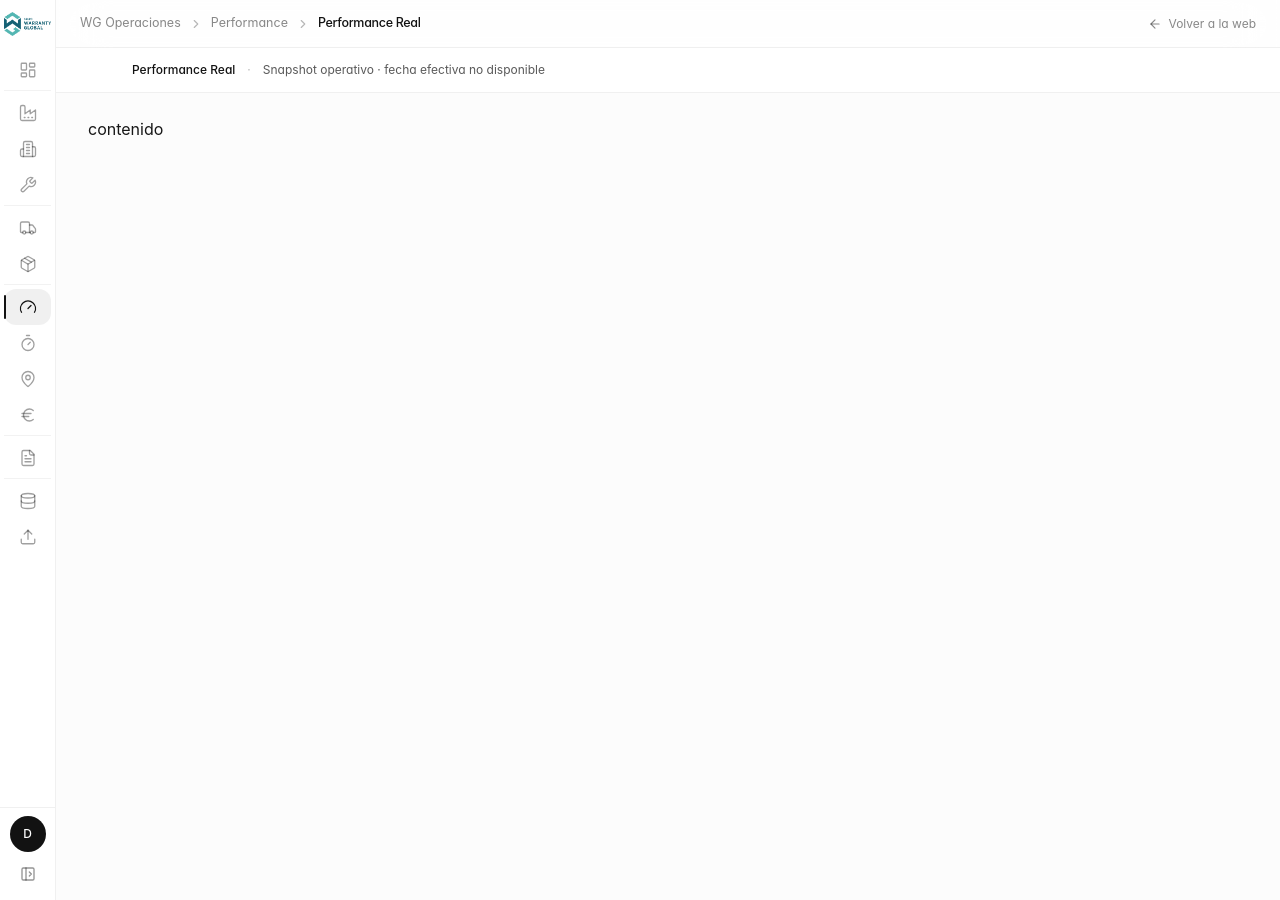
it: UX-SHELL-LEFTNAV-1 · rail colapsado › persiste la preferencia expandido/colapsado
Click the button named "Expandir navegación": point(28, 874) left=10, top=856, right=46, bottom=892
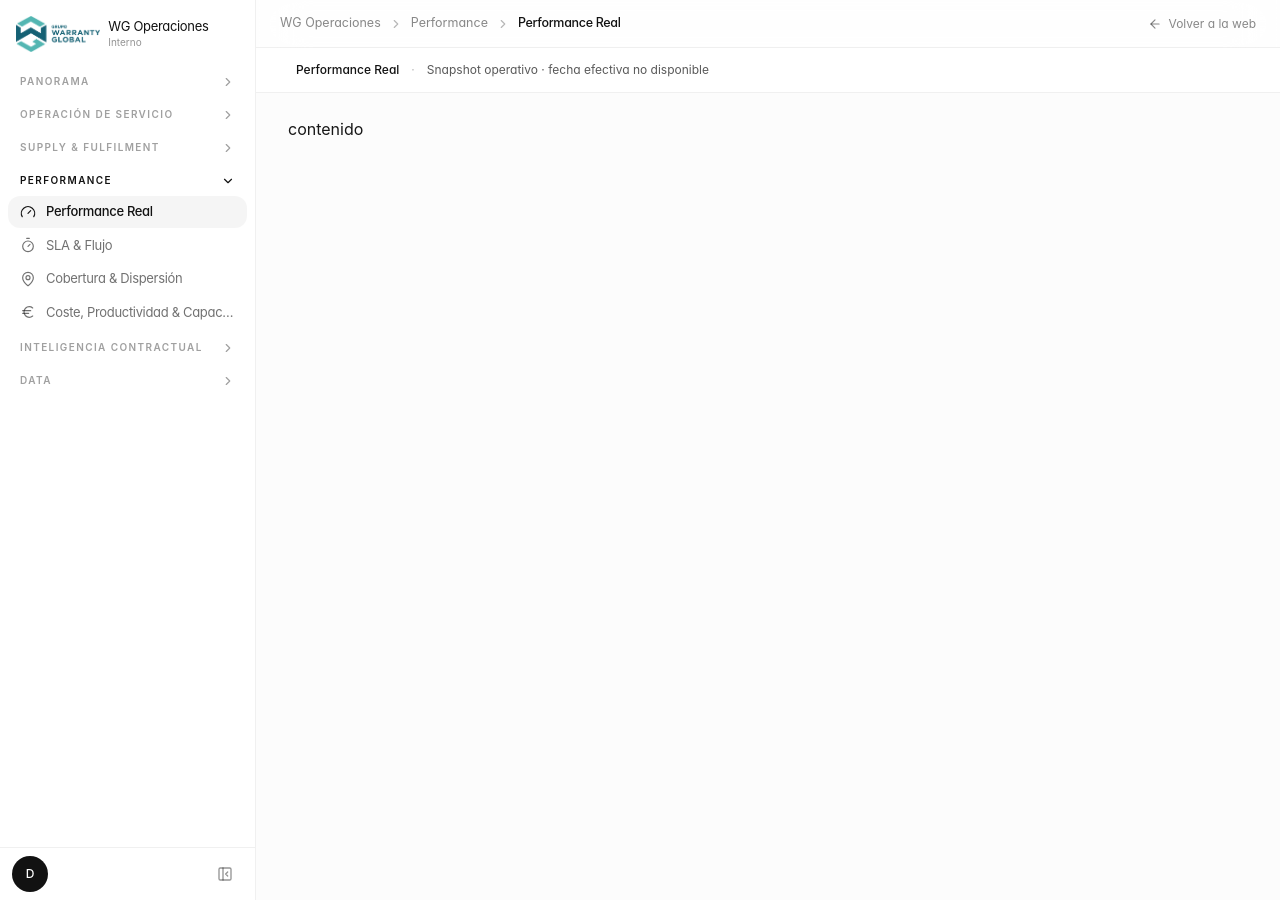
Expected: the element with test id "ops-rail" has class "w-64", left=0, top=0, right=256, bottom=899
